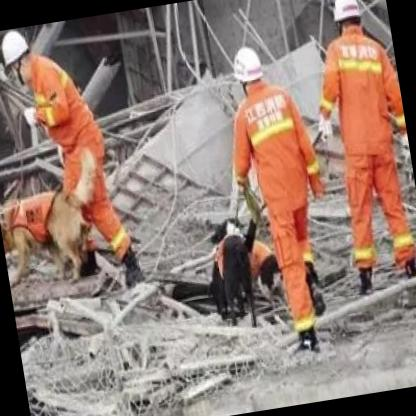helmet: (230, 42, 270, 99), (1, 27, 37, 87), (330, 1, 367, 41)
